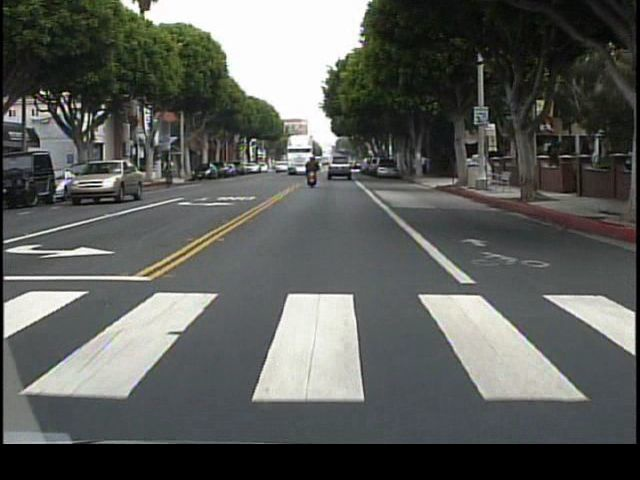person: (305, 154, 323, 196), (157, 162, 176, 190), (425, 156, 434, 185), (422, 157, 427, 180)
